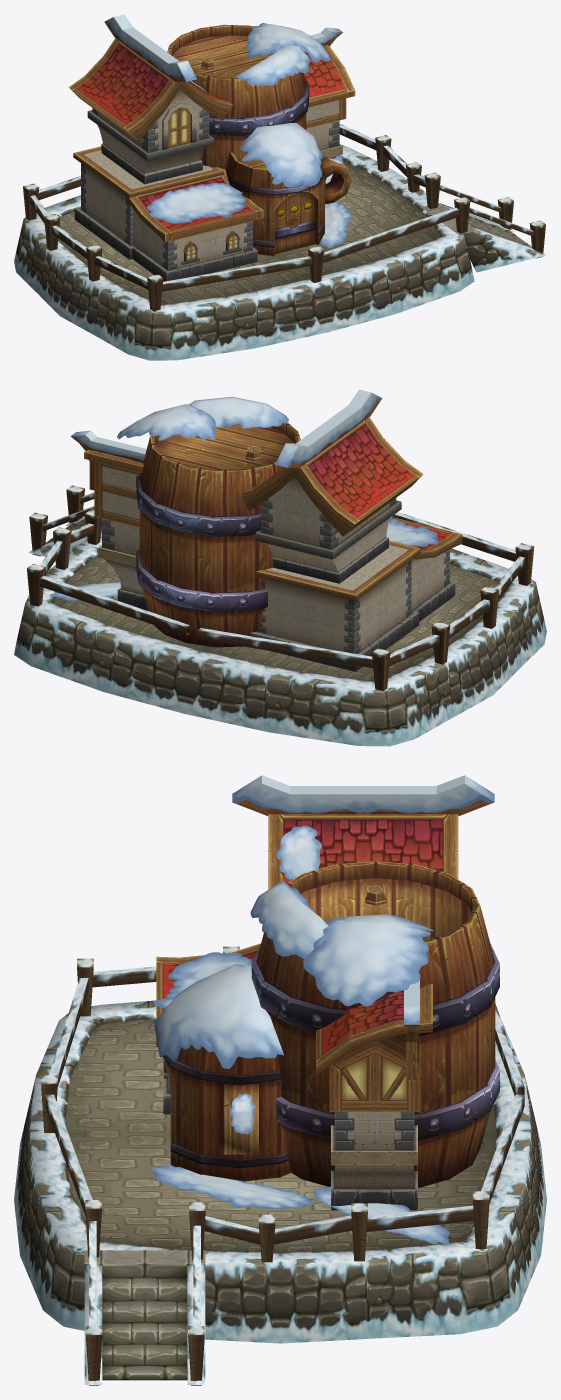
The model's file is FangZi01.FBX.
3 renders of one model, top to bottom at view 1: azimuth 30°, elevation 25°; view 2: azimuth 150°, elevation 25°; view 3: azimuth 270°, elevation 25°, orthographic. The views are drawn at different scales.
Visible parts, largest first — view 1: FangZi01; view 2: FangZi01; view 3: FangZi01.
Part boxes in pixels (left/top/right/bottom): FangZi01: left=14, top=14, right=546, bottom=360; FangZi01: left=14, top=389, right=546, bottom=746; FangZi01: left=14, top=775, right=546, bottom=1385.
Bounding box in the file's own units: 409 × 212 × 278.
